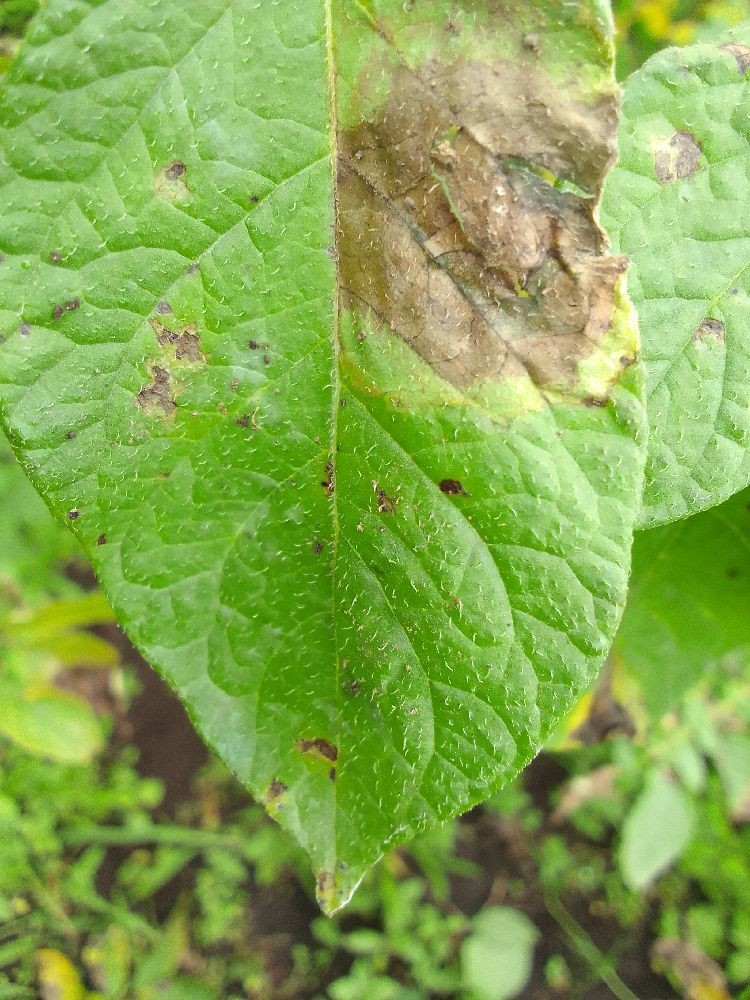late_blight: (316, 3, 637, 406), (354, 710, 750, 1000), (19, 800, 425, 1000), (561, 670, 644, 755)
